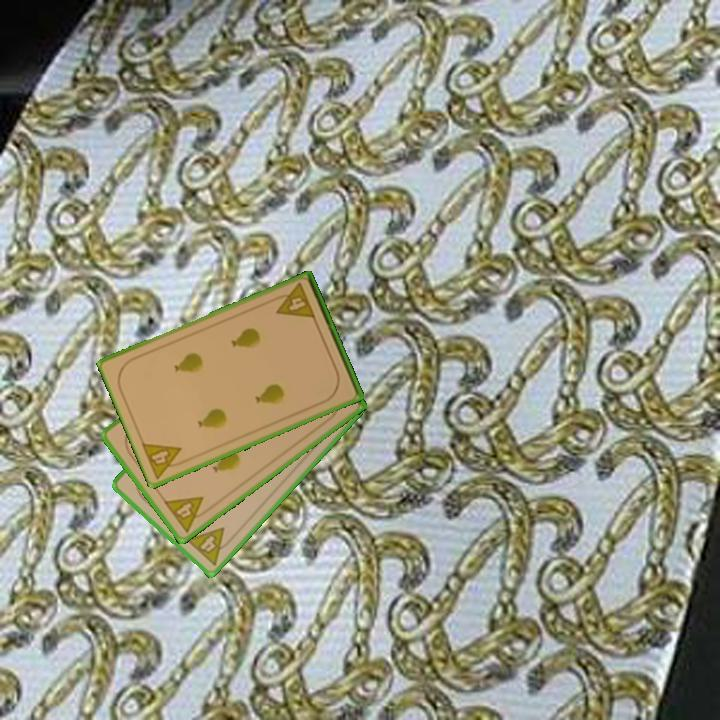4p: (182, 524, 237, 568), (160, 493, 214, 536), (138, 439, 191, 481), (269, 280, 318, 322)
